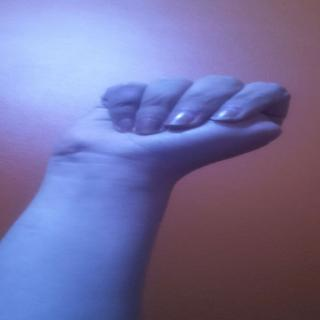SAD: (35, 72, 319, 198)
